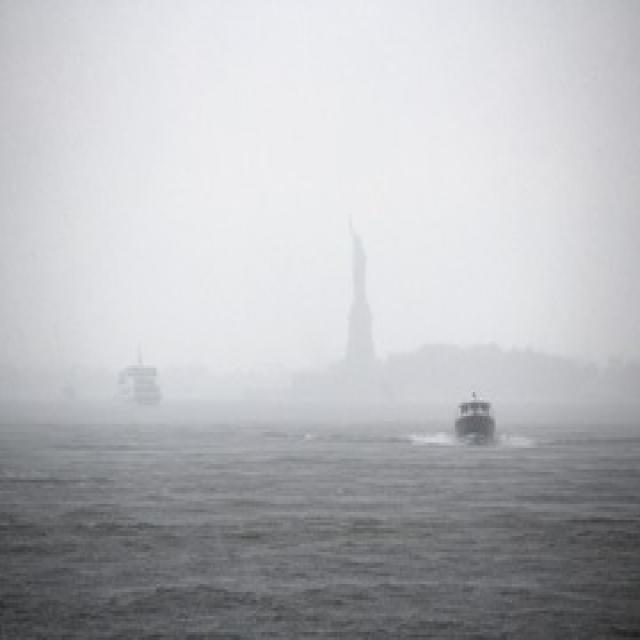houseboat: (452, 385, 503, 440)
passenger ship: (113, 343, 164, 411)
